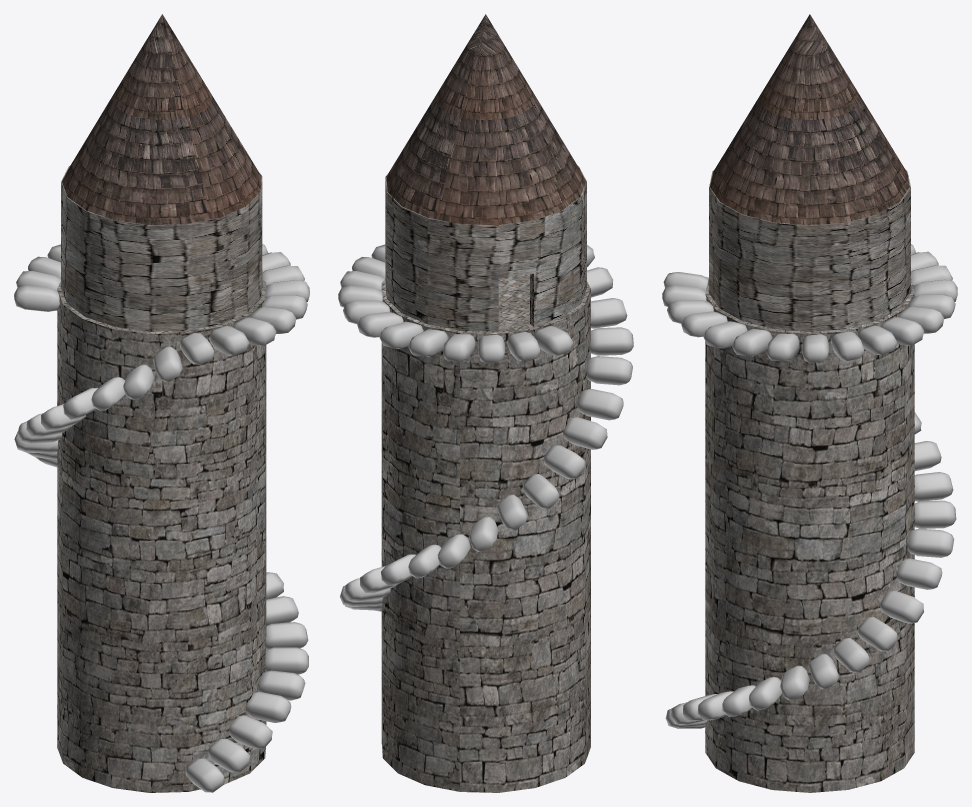
Rendered from SpireCorrect.FBX.
3 renders of one model, left to right at view 1: azimuth 30°, elevation 25°; view 2: azimuth 150°, elevation 25°; view 3: azimuth 270°, elevation 25°, orthographic.
Visible parts, largest first — view 1: Cone001, Box004, Box005, Box003, Box006, Box044, Box007, Box002, Box001, Box028, Box029, Box027 (+11 smaller); view 2: Cone001, Box023, Box022, Box024, Box021, Box020, Box025, Box019, Box044, Box040, Box039, Box016 (+14 smaller); view 3: Cone001, Box014, Box013, Box015, Box012, Box016, Box011, Box010, Box036, Box037, Box032, Box031 (+17 smaller).
Part boxes in pixels (box(x1,y1,x2,y2)): Cone001: box(57, 14, 266, 792); Box004: box(245, 691, 291, 722); Box005: box(258, 670, 305, 700); Box003: box(228, 715, 272, 749); Box006: box(265, 647, 308, 674); Box044: box(14, 285, 59, 311); Box007: box(266, 622, 308, 649); Box002: box(208, 738, 250, 772); Box001: box(185, 758, 224, 792); Box028: box(209, 326, 249, 355); Box029: box(233, 317, 276, 345); Box027: box(180, 332, 213, 365); Cone001: box(381, 14, 590, 792); Box023: box(586, 356, 632, 385); Box022: box(577, 389, 623, 420); Box024: box(590, 327, 633, 355); Box021: box(563, 417, 607, 449); Box020: box(543, 445, 585, 479); Box025: box(591, 298, 627, 328); Box019: box(522, 474, 559, 509); Box044: box(533, 326, 573, 355); Box040: box(408, 329, 448, 356); Box039: box(379, 321, 423, 348); Box016: box(437, 534, 470, 568); Cone001: box(705, 14, 914, 792); Box014: box(908, 528, 954, 557); Box013: box(896, 558, 942, 589); Box015: box(914, 500, 956, 528); Box012: box(880, 590, 923, 623); Box016: box(914, 472, 953, 501); Box011: box(857, 617, 897, 651); Box010: box(833, 638, 869, 672); Box036: box(857, 325, 897, 354); Box037: box(881, 317, 924, 345); Box032: box(732, 329, 772, 356); Box031: box(703, 321, 747, 348).
Size of the model in its own units: 215 by 591 by 216.
